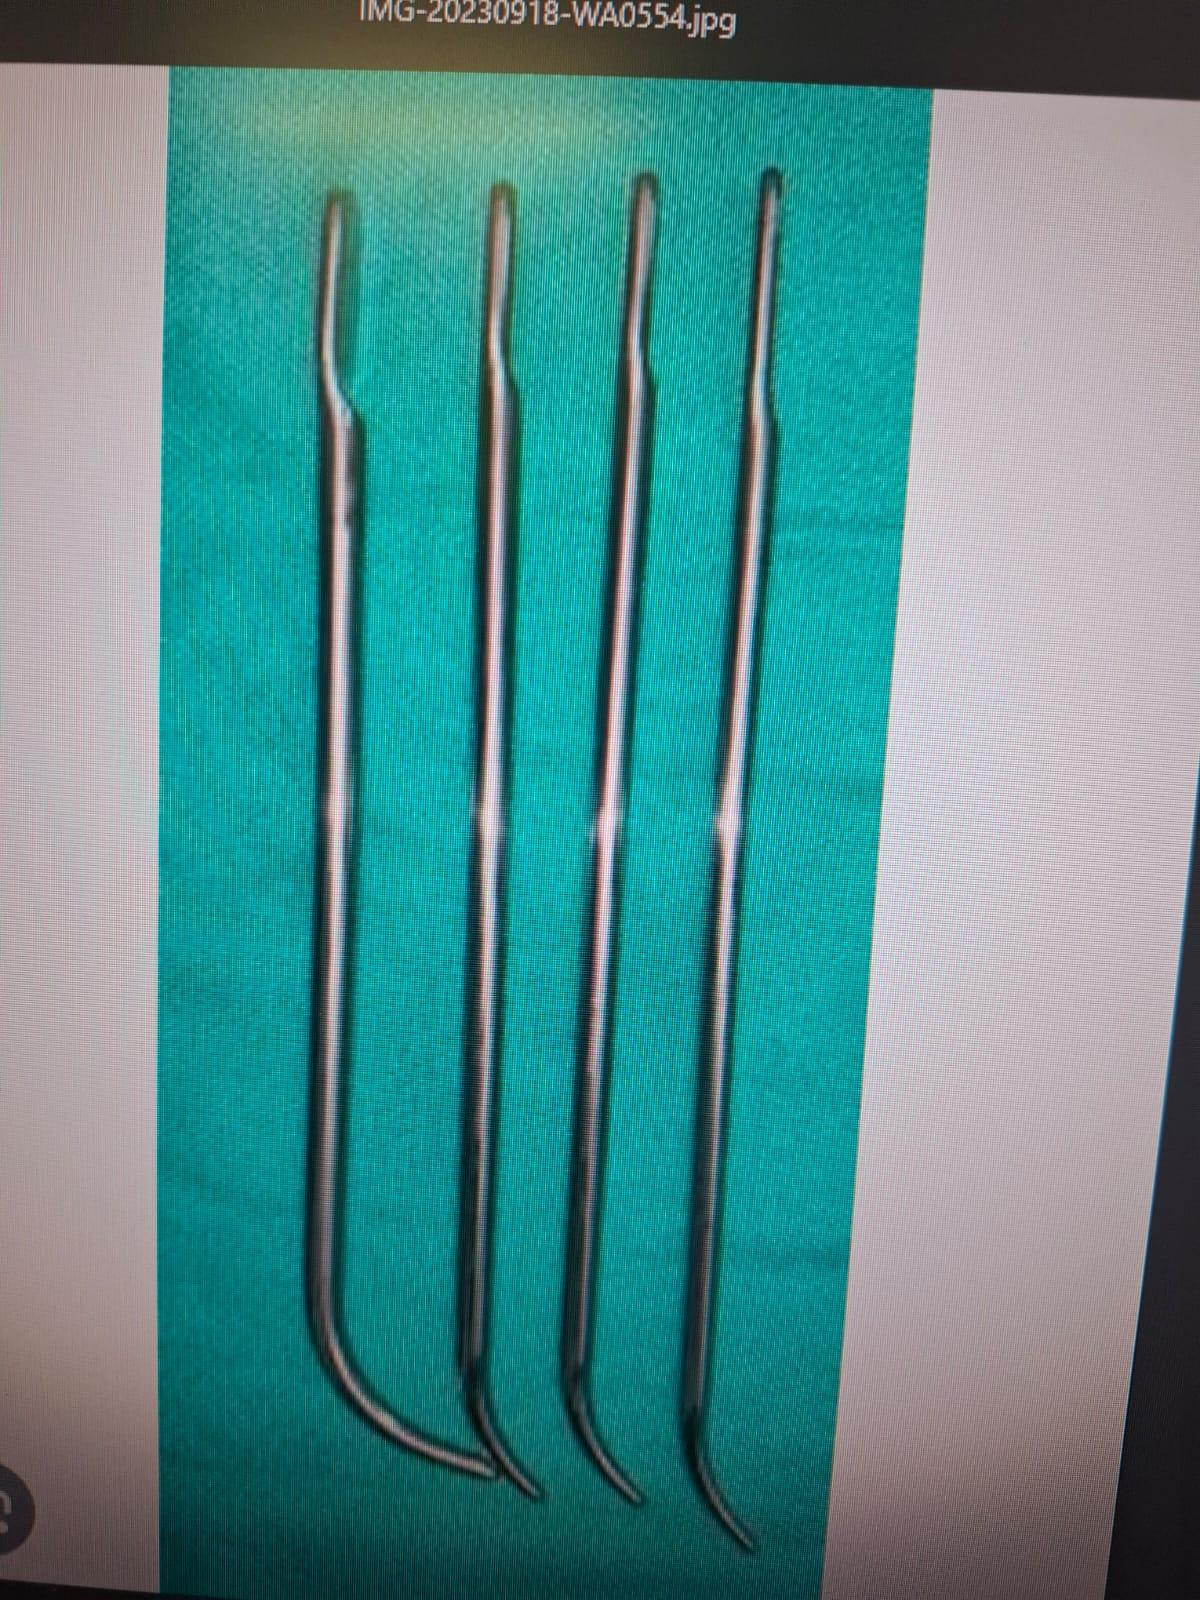Urethral Dilators: (522, 152, 767, 1530), (280, 160, 508, 1512), (360, 158, 582, 1502), (630, 147, 838, 1560)
